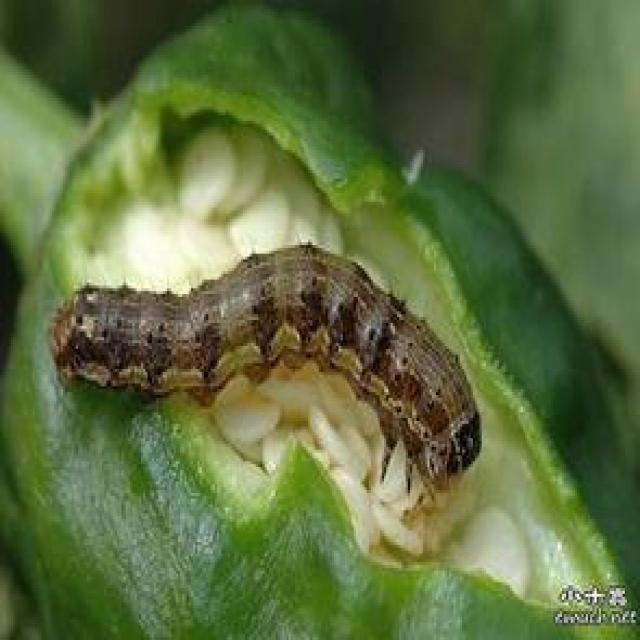BeetArmyWorm-Larva-: (47, 242, 491, 490)
